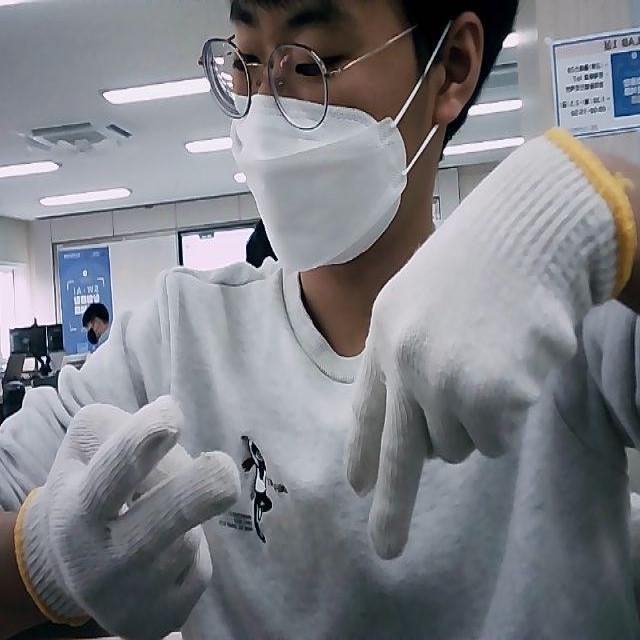gloves: (344, 129, 636, 560), (15, 392, 242, 640)
goggles: (189, 28, 401, 141)
